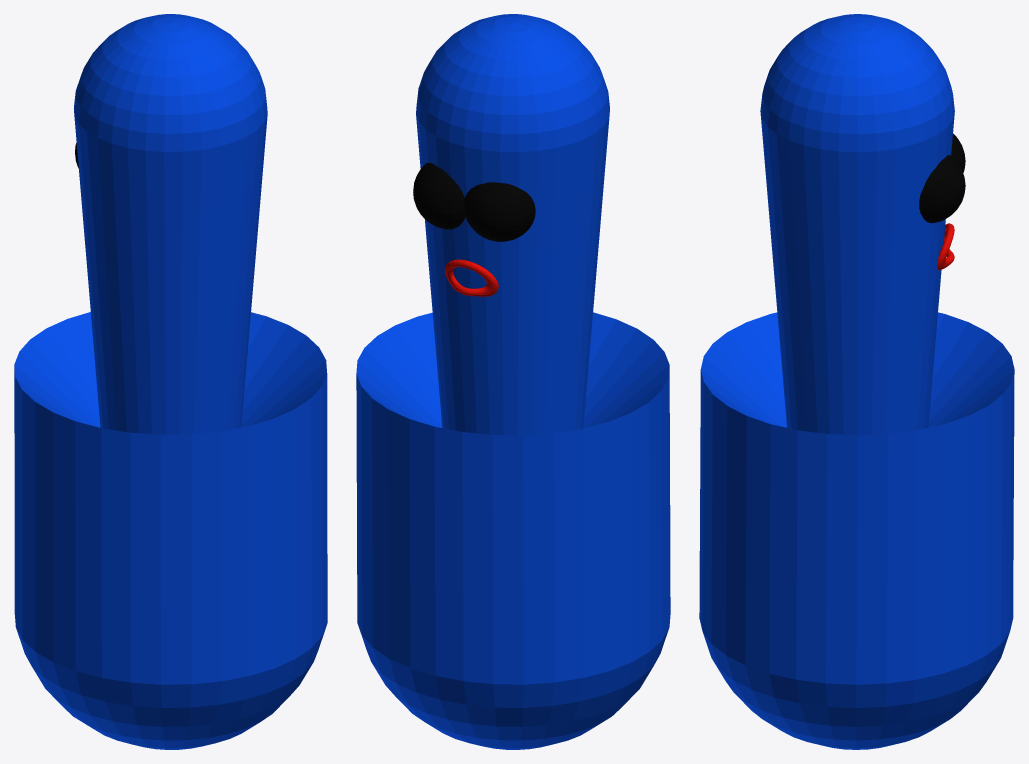
Rendered from enemy5.fbx.
3 views of the same model, side by side, from view 1: azimuth 30°, elevation 25°; view 2: azimuth 150°, elevation 25°; view 3: azimuth 270°, elevation 25° (orthographic).
Visible parts, largest first — view 1: Sphere; view 2: Sphere; view 3: Sphere.
Part boxes in pixels (box(x1,y1,x2,y2)): Sphere: box(14, 14, 327, 749); Sphere: box(356, 14, 670, 749); Sphere: box(699, 14, 1014, 749).
Size of the model in its own units: 196 by 491 by 197.
